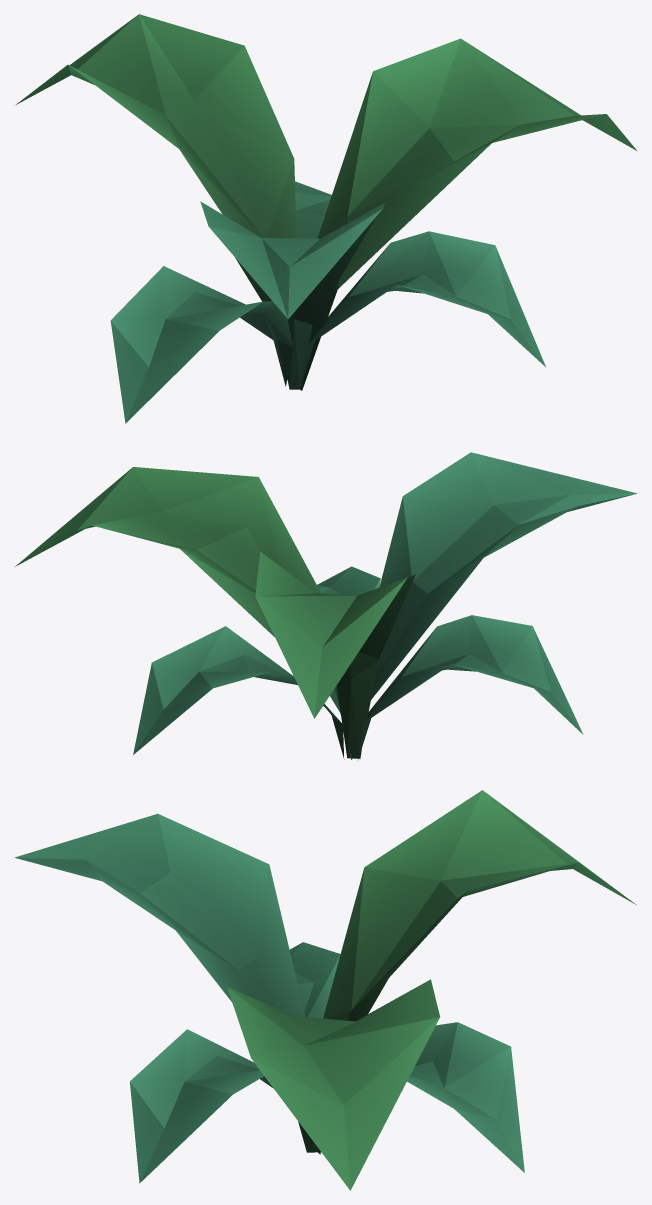
Rendered from Jungle_SmallLeaf_B.fbx.
3 views of the same model, one above another, from view 1: azimuth 30°, elevation 25°; view 2: azimuth 150°, elevation 25°; view 3: azimuth 270°, elevation 25° (orthographic). The views are drawn at different scales.
Parts seen in each view (by area): view 1: Jungle_SmallLeaf_B; view 2: Jungle_SmallLeaf_B; view 3: Jungle_SmallLeaf_B.
Boxes of the visible parts, <box> form: Jungle_SmallLeaf_B: <box>14,14,637,423</box>; Jungle_SmallLeaf_B: <box>15,452,637,760</box>; Jungle_SmallLeaf_B: <box>14,790,636,1190</box>.
Bounding box in the file's own units: 1.15 × 0.5696 × 1.1.
Materials: 1 (1 with a texture image).
